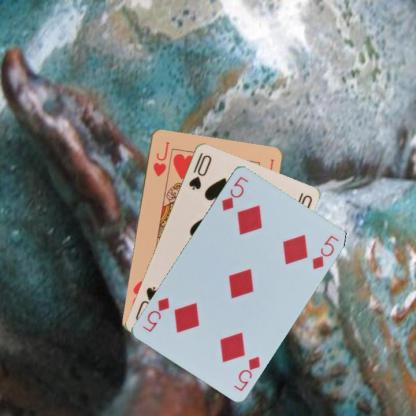10s: (186, 150, 213, 191)
5d: (219, 173, 250, 212), (231, 353, 262, 392)
Jh: (150, 139, 171, 177)
